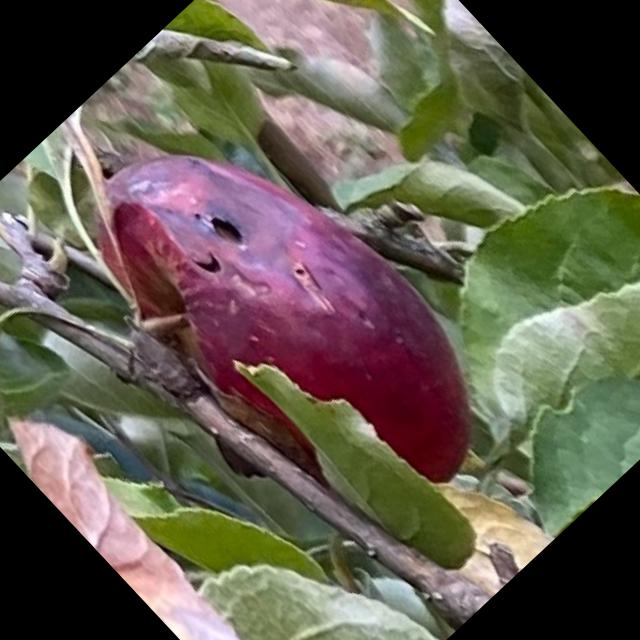Apples: (62, 81, 526, 556)
